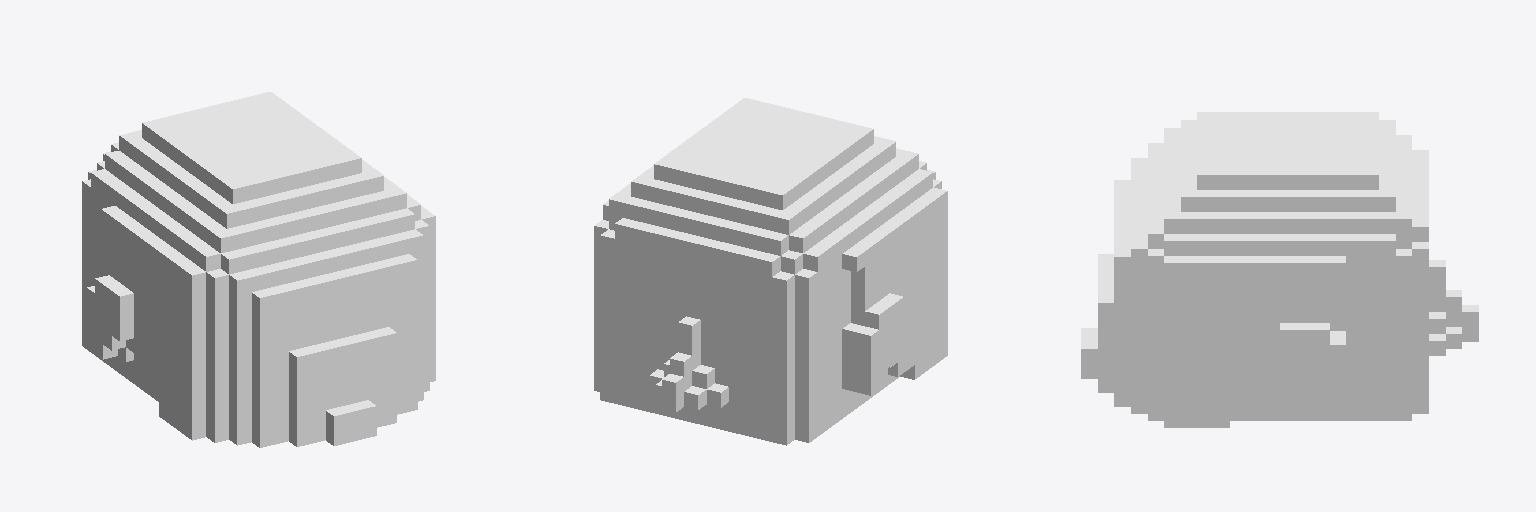
File: hamilton-head-cropped.obj
3 renders of one model, left to right at view 1: azimuth 30°, elevation 25°; view 2: azimuth 150°, elevation 25°; view 3: azimuth 270°, elevation 25°, orthographic.
Size of the model in its own units: 19 by 15 by 24.